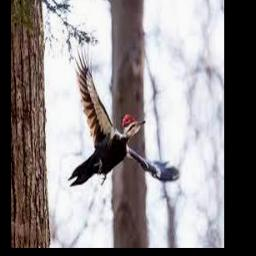Woodpecker: (68, 46, 180, 186)
